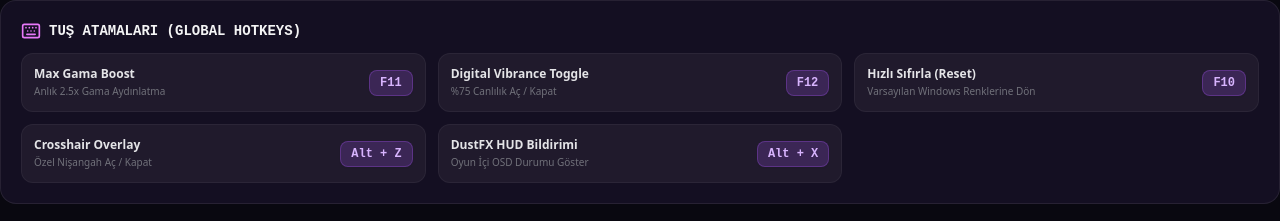
HotkeyManagerUI › enters editing mode when a hotkey item is clicked
Step 1. Click the element with test id "hotkey-item-1" → (223, 82), box top-left (21, 53), bottom-right (426, 112)
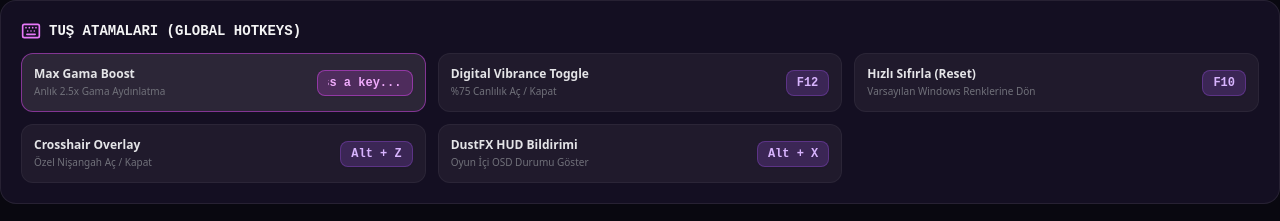
Now the field with test id "hotkey-input-1" holds "Press a key...", box top-left (317, 70), bottom-right (413, 96)
